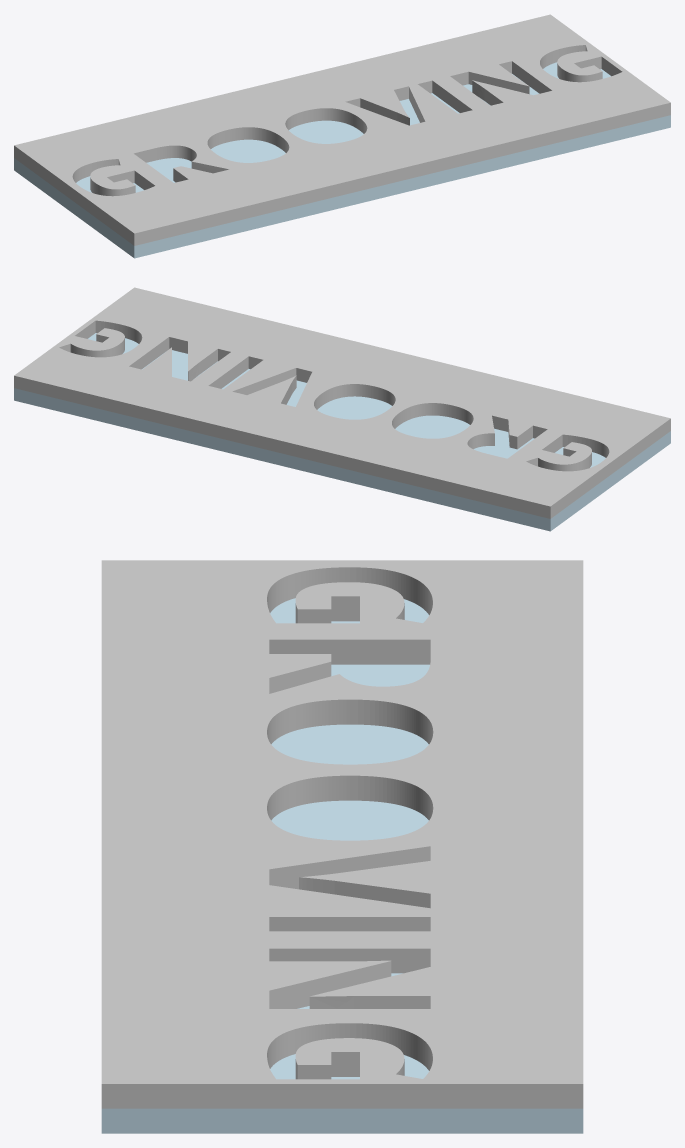
Rendered from Groove.fbx.
The picture shows the model from 3 angles, top to bottom: view 1: azimuth 30°, elevation 25°; view 2: azimuth 150°, elevation 25°; view 3: azimuth 270°, elevation 25°; orthographic projection. The views are drawn at different scales.
Visible parts, largest first — view 1: imagetostl_mesh0, imagetostl_mesh1; view 2: imagetostl_mesh0, imagetostl_mesh1; view 3: imagetostl_mesh0, imagetostl_mesh1.
Part boxes in pixels (left/top/right/bottom): imagetostl_mesh0: left=14, top=14, right=670, bottom=245; imagetostl_mesh1: left=14, top=62, right=670, bottom=258; imagetostl_mesh0: left=14, top=287, right=670, bottom=518; imagetostl_mesh1: left=14, top=333, right=670, bottom=531; imagetostl_mesh0: left=101, top=560, right=583, bottom=1108; imagetostl_mesh1: left=101, top=598, right=583, bottom=1133.
Bounding box in the file's own units: 9000 × 400 × 3500.
